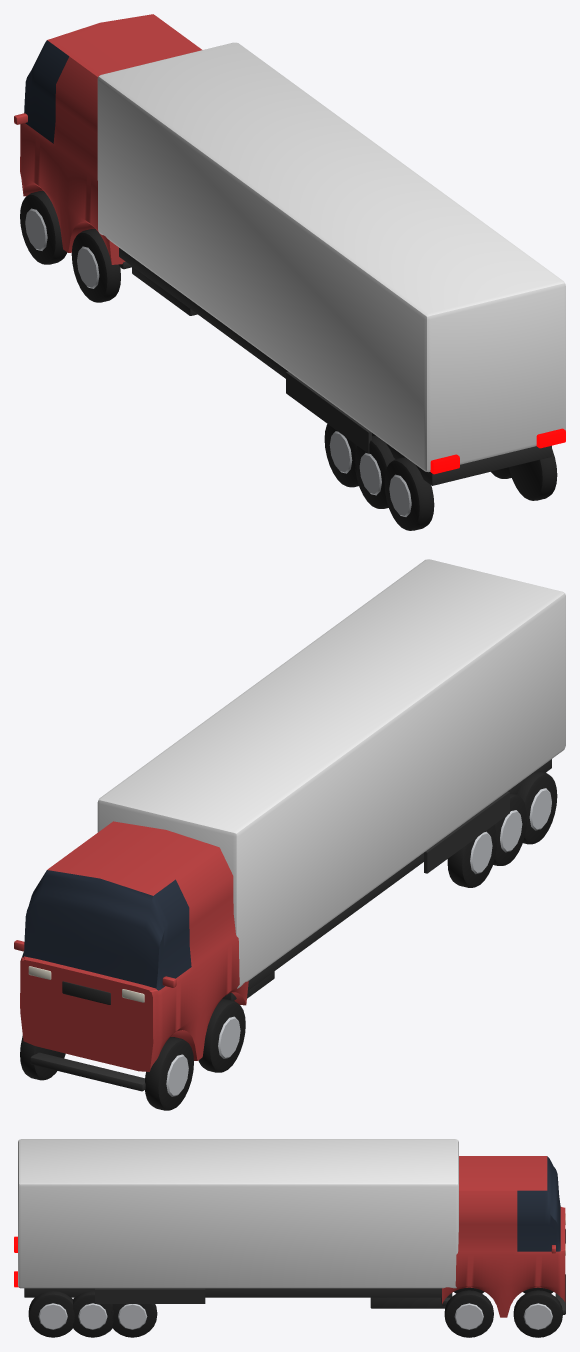
The model's file is LKW.fbx.
The picture shows the model from 3 angles, top to bottom: view 1: azimuth 30°, elevation 25°; view 2: azimuth 150°, elevation 25°; view 3: azimuth 270°, elevation 25°; orthographic projection. The views are drawn at different scales.
Parts seen in each view (by area): view 1: LKW_Trailer, LKW_Body, LKW_Tire, LKW_Trim, LKW_Rim, LKW_Glass, LKW_Taillight; view 2: LKW_Trailer, LKW_Body, LKW_Glass, LKW_Tire, LKW_Trim, LKW_Rim; view 3: LKW_Trailer, LKW_Body, LKW_Tire, LKW_Trim, LKW_Rim, LKW_Glass.
Boxes of the visible parts, x1,y1,x2,y2 form: LKW_Trailer: (97, 42, 565, 471); LKW_Body: (14, 14, 201, 264); LKW_Tire: (20, 191, 557, 530); LKW_Trim: (119, 248, 551, 485); LKW_Rim: (25, 208, 411, 516); LKW_Glass: (24, 40, 69, 143); LKW_Taillight: (430, 428, 565, 474); LKW_Trailer: (97, 559, 565, 988); LKW_Body: (14, 821, 248, 1071); LKW_Glass: (22, 870, 191, 990); LKW_Tire: (20, 771, 557, 1110); LKW_Trim: (30, 759, 551, 1091); LKW_Rim: (166, 788, 551, 1096); LKW_Trailer: (18, 1139, 458, 1288); LKW_Body: (442, 1156, 565, 1317); LKW_Tire: (28, 1287, 562, 1337); LKW_Trim: (24, 1229, 565, 1314); LKW_Rim: (38, 1303, 552, 1329); LKW_Glass: (517, 1156, 560, 1251).
Bounding box in the file's own units: 9.52 × 13.2 × 42.55.
